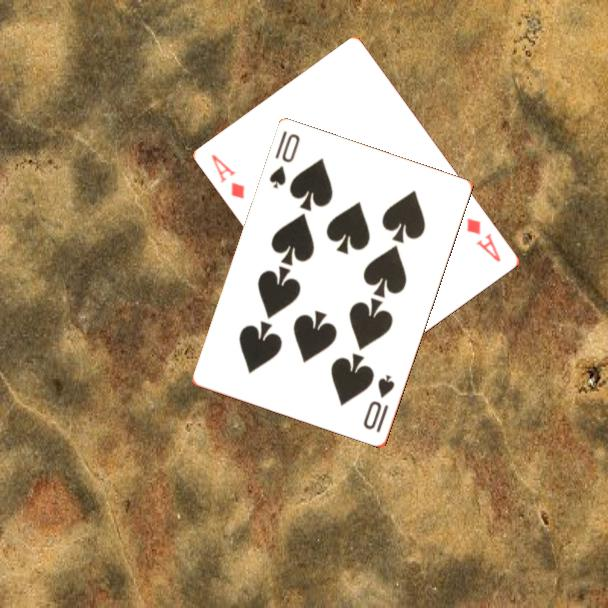d01: (208, 150, 248, 202), (464, 214, 504, 265)
s10: (360, 372, 398, 436), (266, 128, 303, 192)
